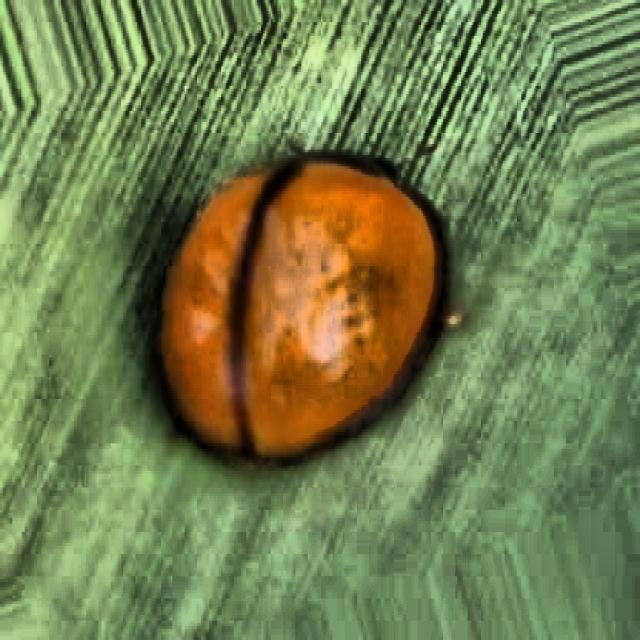Ladybug: (93, 62, 504, 520)
